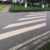zebra: (1, 12, 50, 39)
